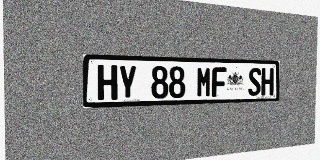8: (151, 66, 168, 99), (169, 66, 185, 98)
F: (212, 67, 226, 97)
H: (97, 65, 117, 100), (261, 68, 274, 96)
M: (196, 67, 212, 97)
S: (248, 68, 261, 96)
Y: (118, 65, 137, 100)
